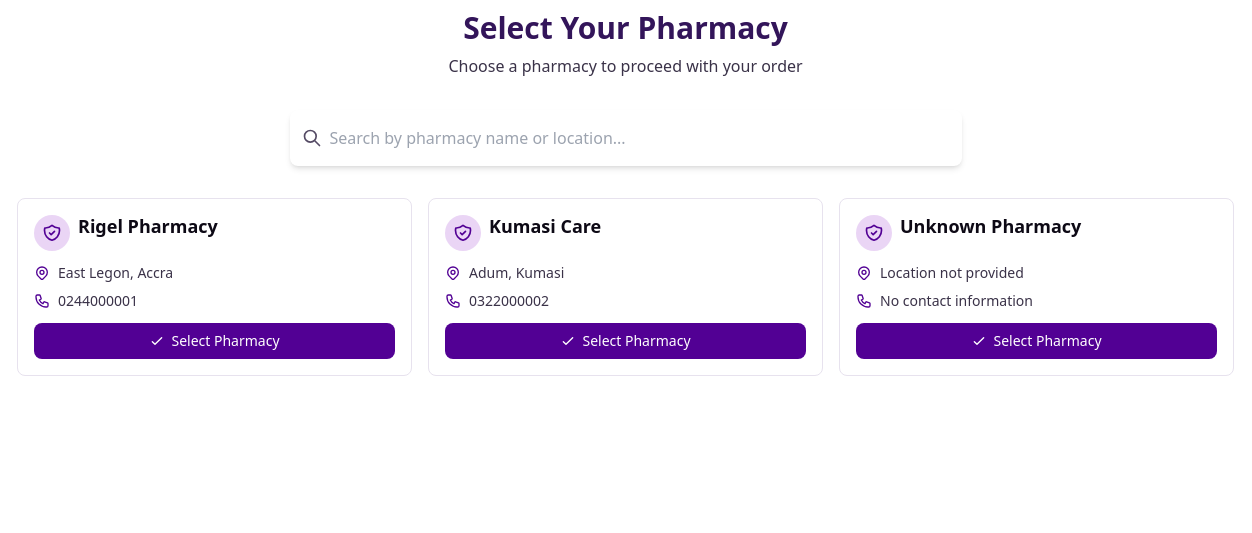
Test case: PharmacySelection: choosing a pharmacy › reports a failure to select and lets the customer pick again
Step 1. Click the element with class "border" that starts with "Rigel Pharmacy" → coordinates (214, 287), box [17, 198, 412, 376]
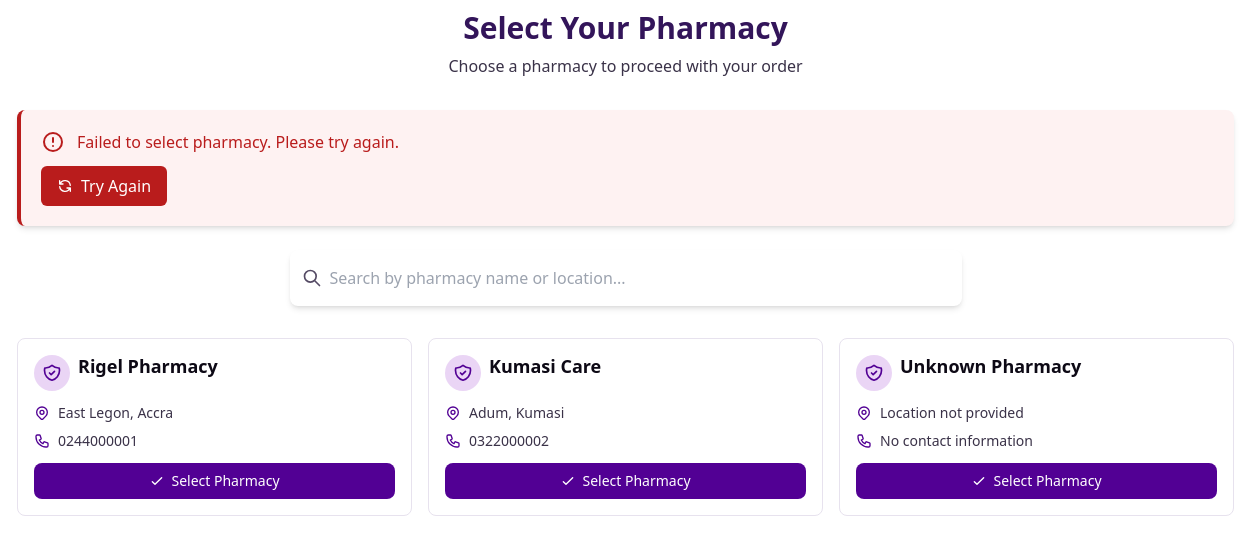
Now the text "Failed to select pharmacy. Please try again." is shown, box [77, 130, 399, 154]
